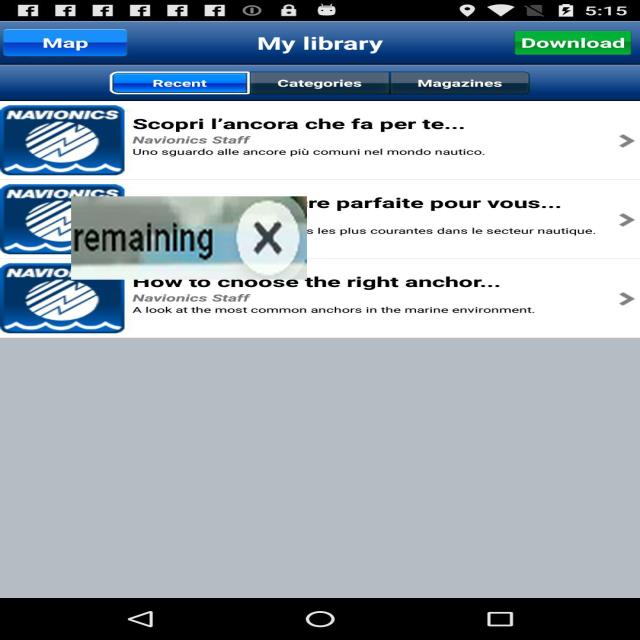misdirection: (71, 196, 307, 280)
